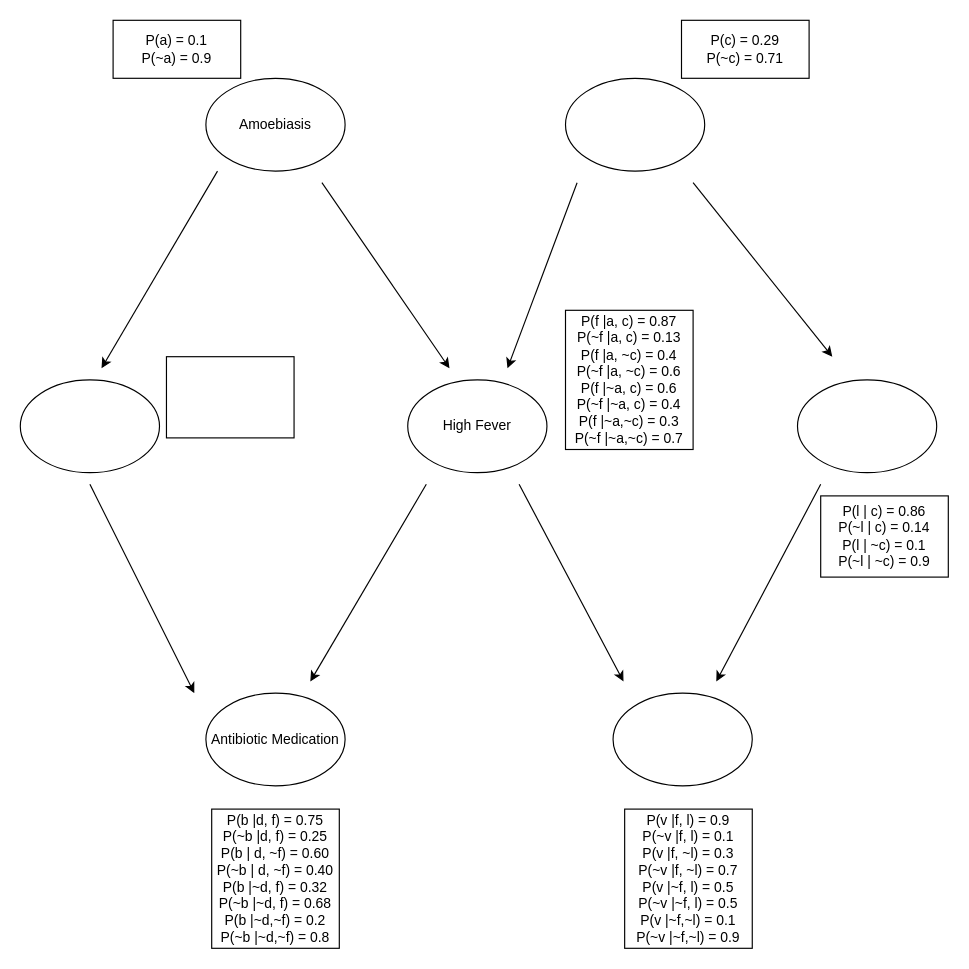
This 969x969 diagram has some shape labels left out. Here are the shapes that lost their labels. From the top down, the centre of each, then its label:
the point at 634,124: Covid 19
the point at 229,397: P(d|a) = 0.3 P(~d|a) = 0.7 P(d|~a) = 0.4 P(~d|~a) = 0.6
the point at 89,426: Diarrhea
the point at 866,426: Loss of Smell and Taste
the point at 682,739: Viral Medication
